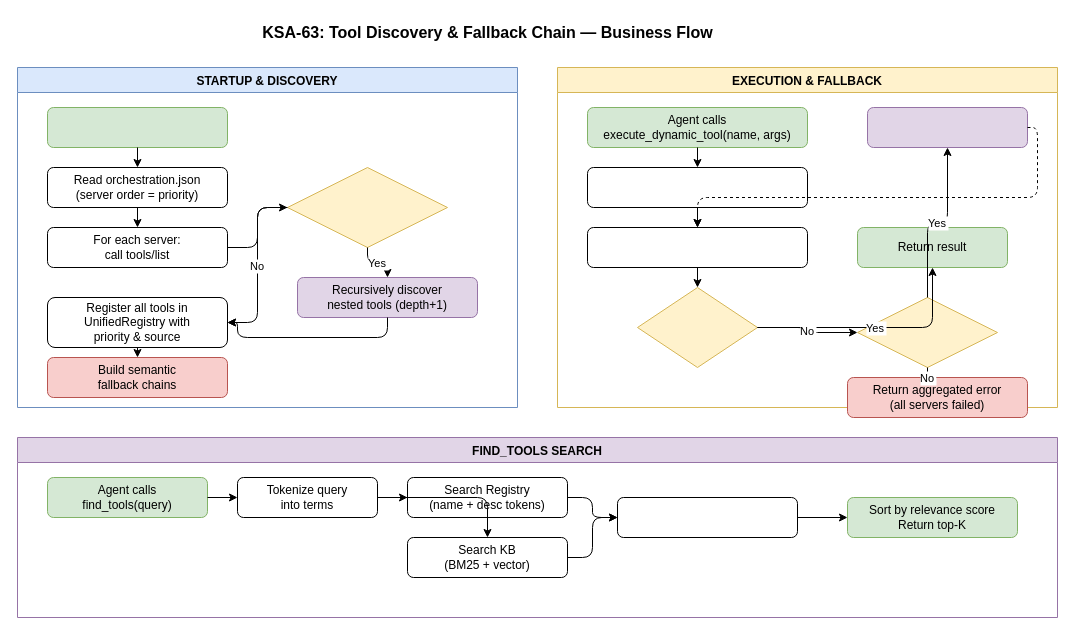
Some shapes in this 1075 by 635 pixel diagram are drawn without their labels. The shapes that lost their labels are listed below. From the top down, each one's centre as x and y in pixels, then its label:
At (x=137, y=127): "Start OrchestrationEngine".
At (x=947, y=127): "Try next server (priority N+1)".
At (x=367, y=207): "Is server a nested orchestrator?".
At (x=697, y=187): "Lookup fallback chain for tool name".
At (x=697, y=247): "Execute on highest-priority server (priority 0)".
At (x=697, y=327): "Success?".
At (x=927, y=332): "More servers in chain?".
At (x=707, y=517): "Merge & deduplicate results by tool name".
